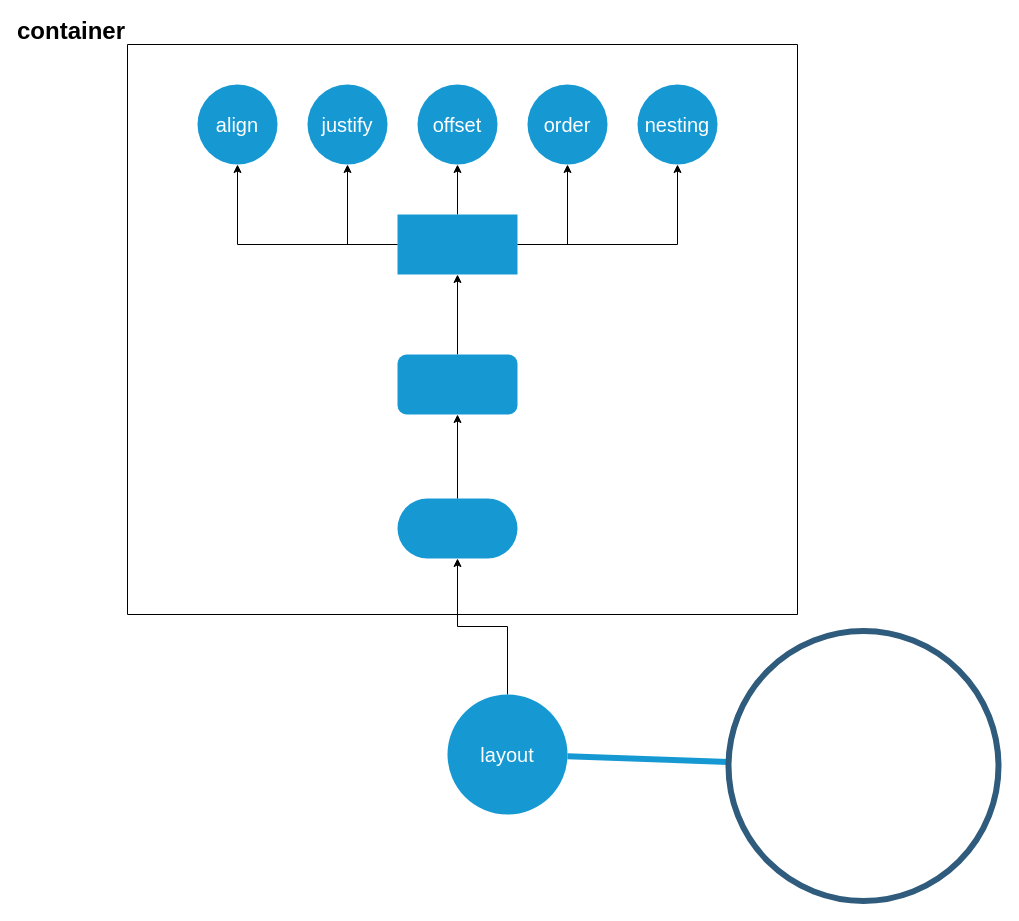
This 1019x921 diagram has some shape labels left out. The centre of each missing label's shape, as x and y in pixels:
"col" goes at point (457, 244).
"grid" goes at point (457, 528).
"row" goes at point (457, 384).
"부트스트랩 4.0" goes at point (863, 766).
